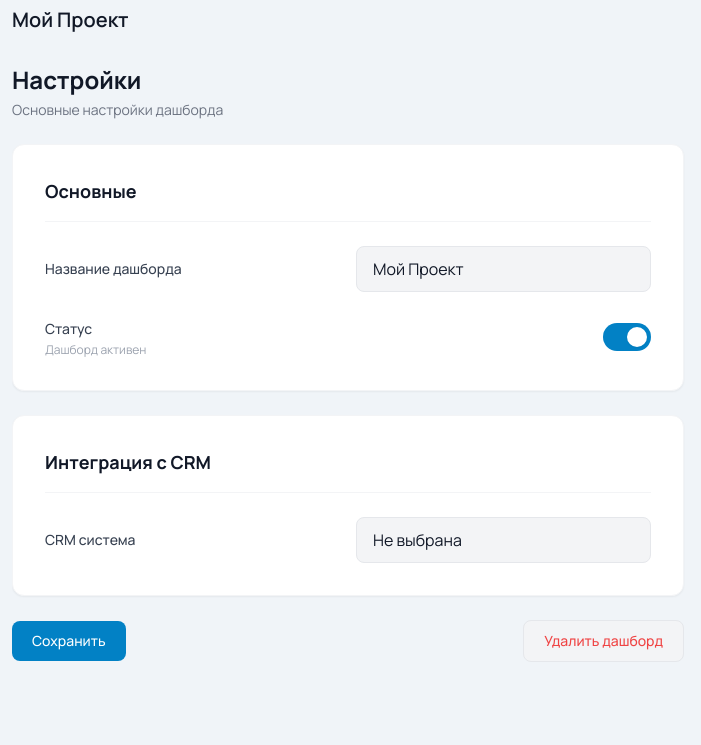
Scenario: Settings › shows webhook URL for bitrix24
This screenshot has width=701, height=745.
Select "Bitrix24" in the dropdown showing "Не выбрана": (504, 540) [356,517,651,563]
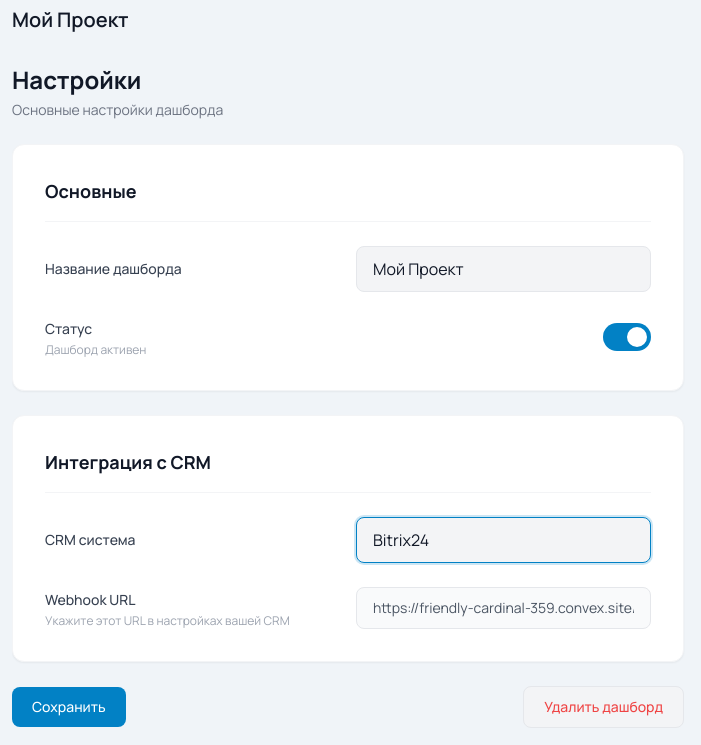
Result: the field showing "bitrix24/project123" next to "Укажите этот URL в настройках вашей CRM" is shown at [356,587,651,629]
